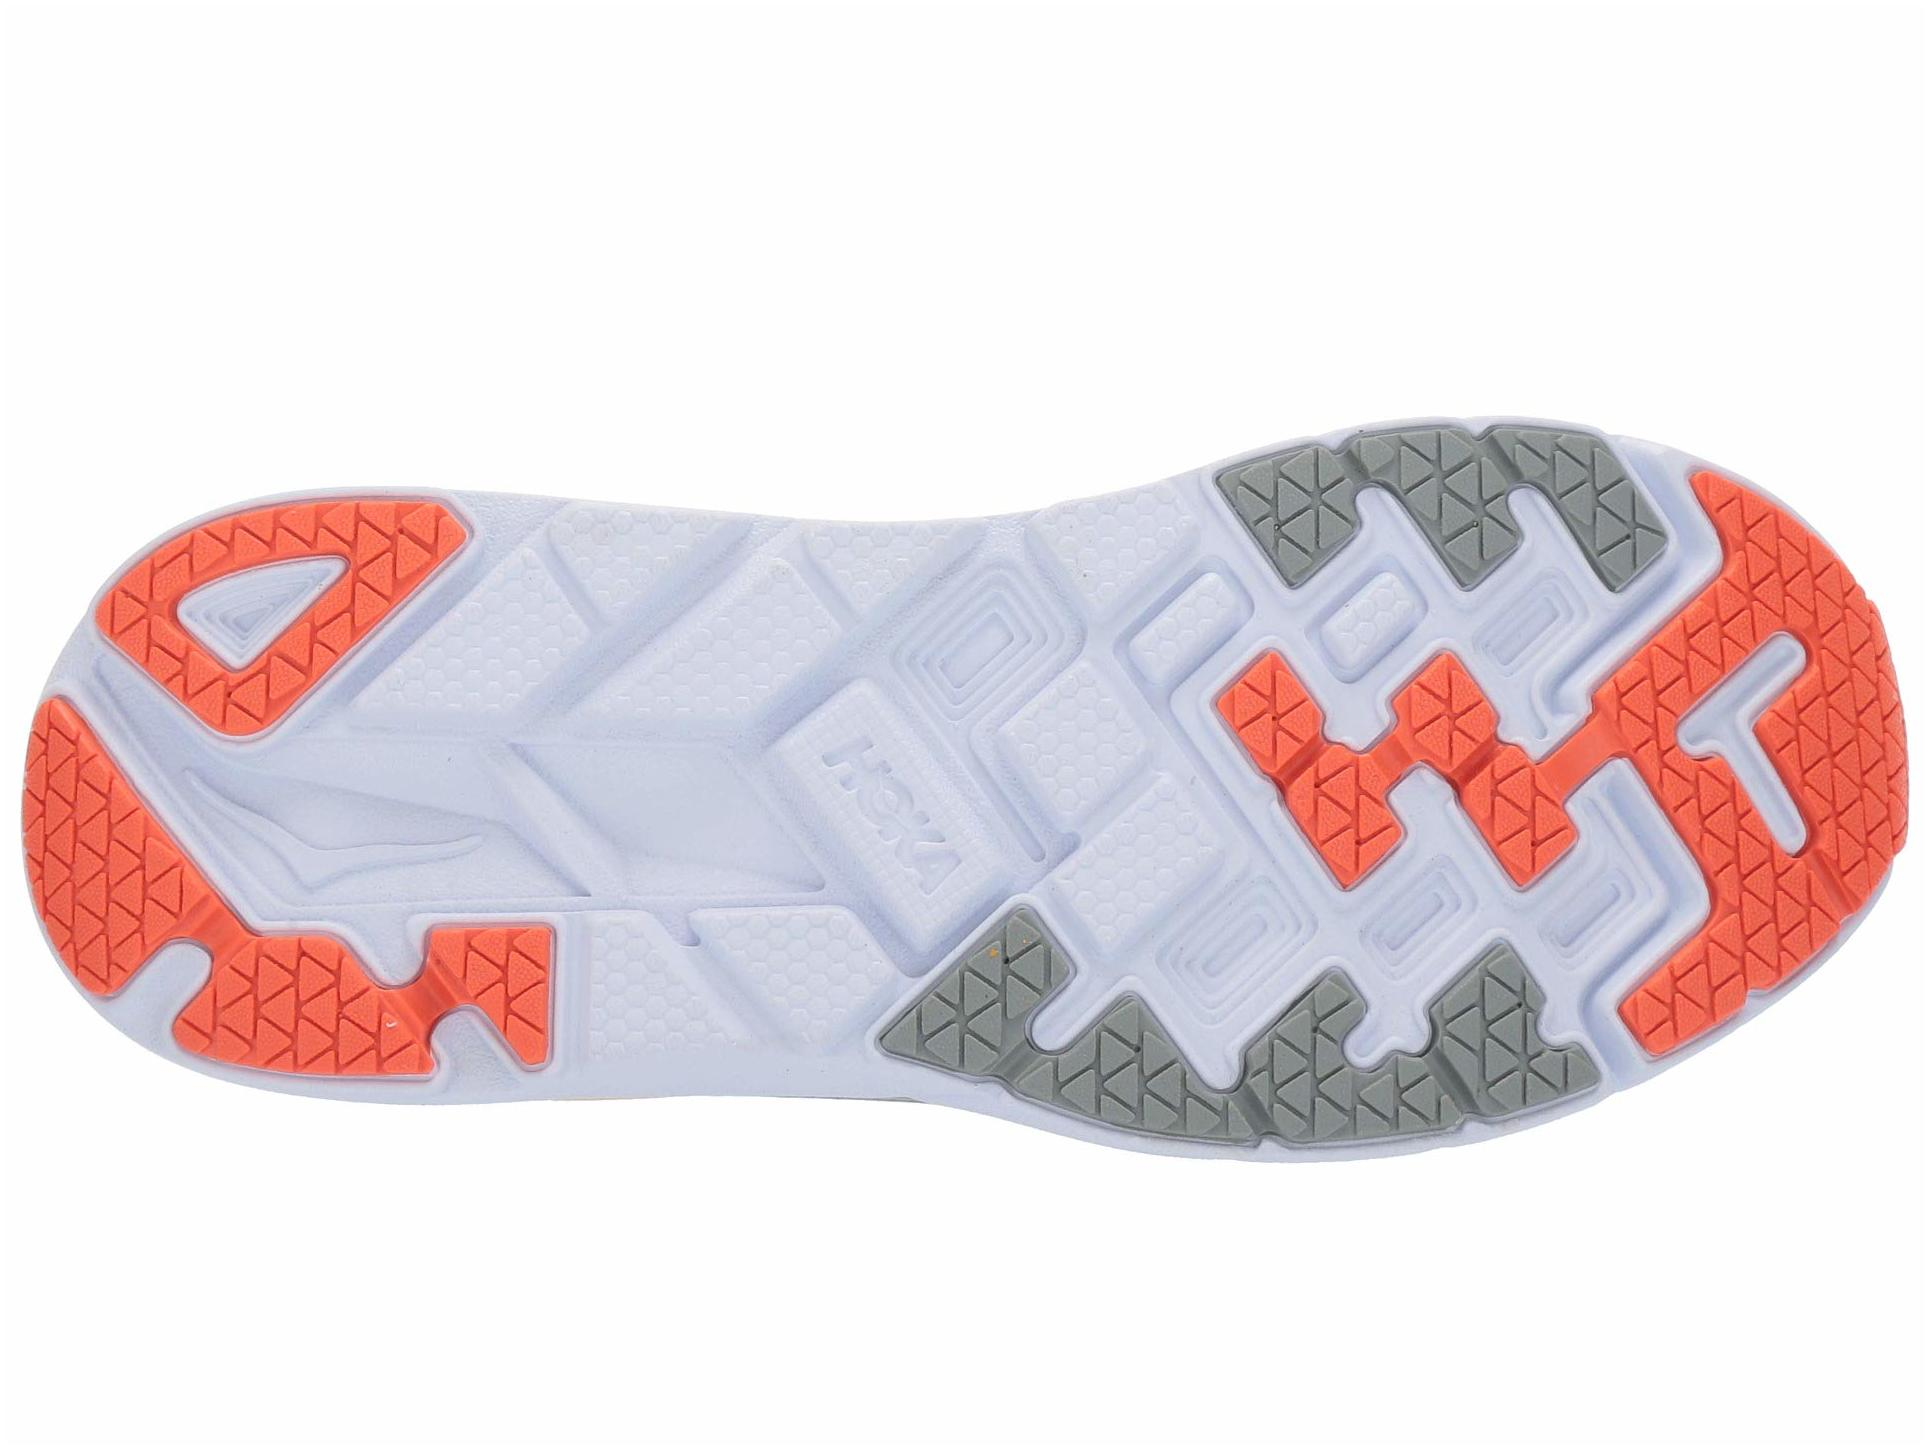circle: (800, 716, 986, 937)
polygon: (577, 899, 716, 1075), (410, 577, 593, 704), (649, 588, 824, 713), (1091, 734, 1188, 931), (728, 905, 890, 1020), (1082, 487, 1162, 594)
quad: (902, 577, 1056, 713), (1199, 883, 1293, 1025), (1357, 883, 1488, 981), (1532, 868, 1634, 958)
text: (800, 716, 986, 937)
triangle: (168, 529, 337, 723), (209, 935, 395, 1094), (34, 775, 165, 966), (1685, 774, 1782, 1004), (430, 914, 558, 1072), (1379, 437, 1522, 565), (1793, 688, 1910, 841), (912, 937, 1046, 1063), (1450, 976, 1563, 1124), (1539, 442, 1654, 573), (1251, 1017, 1366, 1142), (1468, 762, 1592, 867), (1304, 751, 1400, 885), (1214, 656, 1325, 771), (1613, 618, 1730, 722), (1249, 458, 1354, 571), (1082, 1020, 1181, 1139), (1401, 660, 1494, 774), (1746, 535, 1831, 643), (344, 504, 448, 576), (101, 592, 158, 649)
